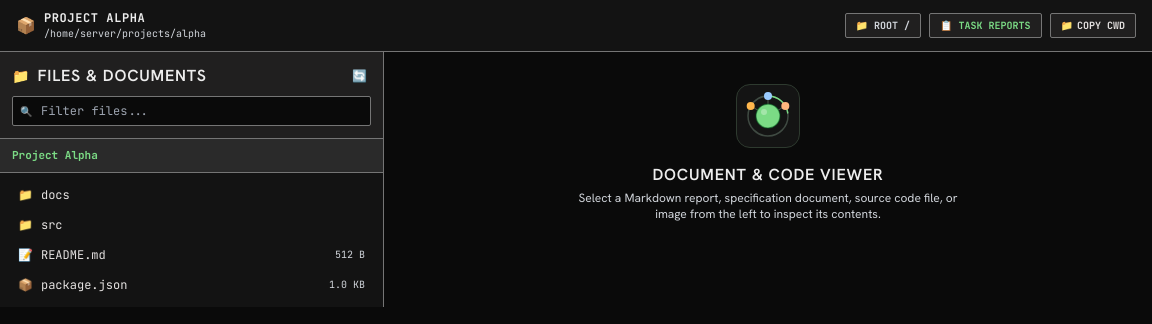
Test: ProjectExplorer Component › filters file entries in the explorer via the search input
Check: the text "README.md" is shown, box [41, 246, 106, 262]
Check: the text "package.json" is shown, box [41, 276, 127, 292]
Type "README" into the field labelled "Filter files" at (192, 111), box [12, 96, 371, 126]
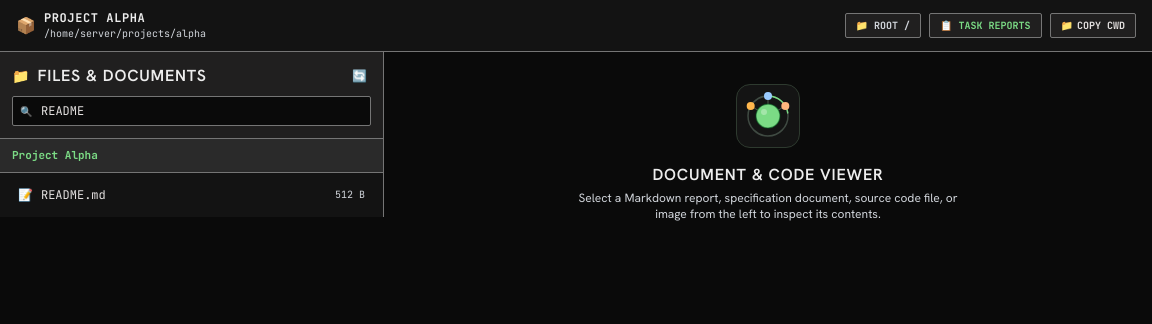
Check: the text "README.md" is shown, box [41, 186, 106, 202]
Check: the button "package.json" is gone
